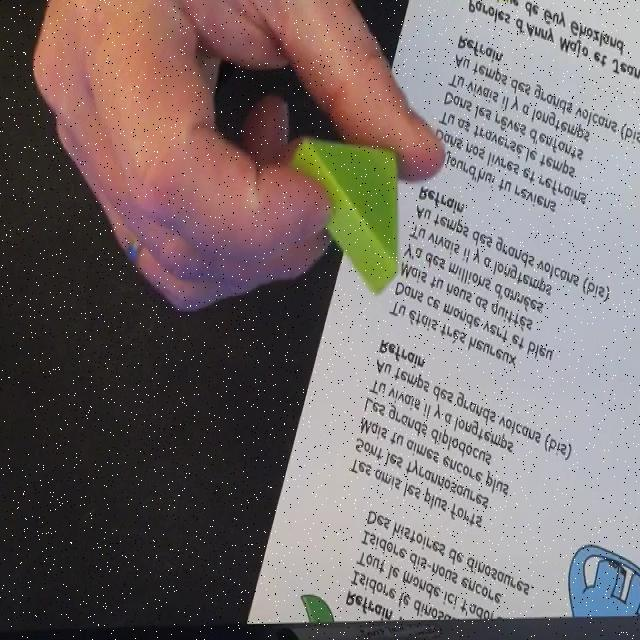triangle: (287, 138, 400, 296)
